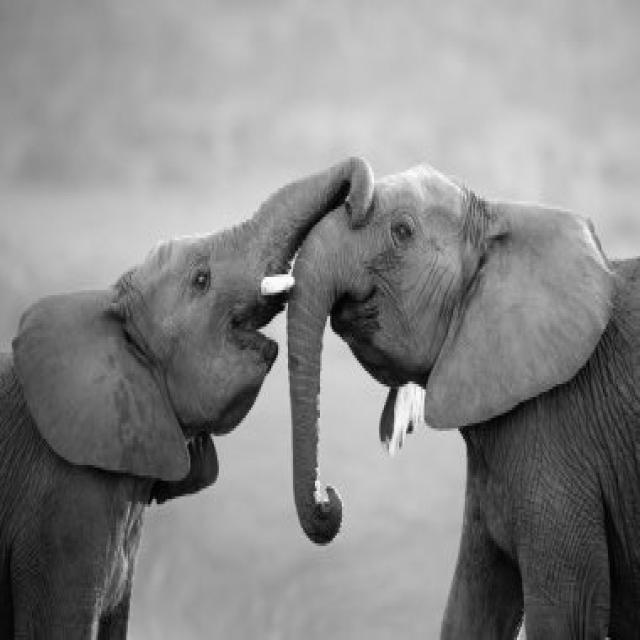Animal: (0, 159, 374, 637), (289, 167, 640, 638)
